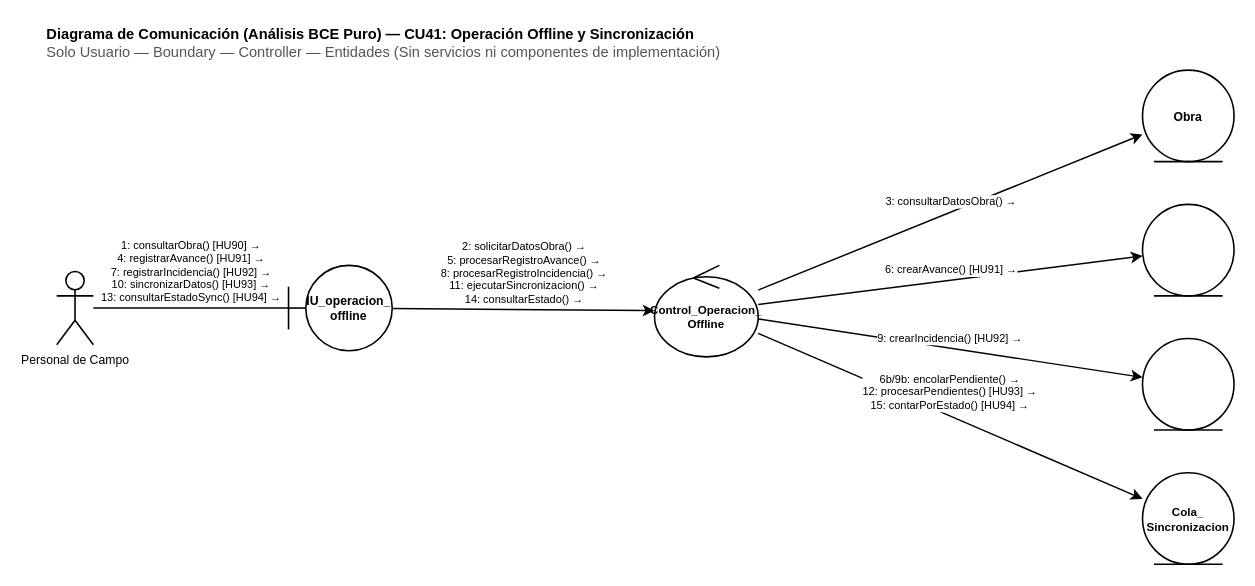
This 1255x586 diagram has some shape labels left out. The shapes that lost their labels are listed below. From the top down, each one's centre as x and y in pixels, then its label:
At point (1187, 249): "Avance_Obra".
At point (1187, 383): "Incidencia".
